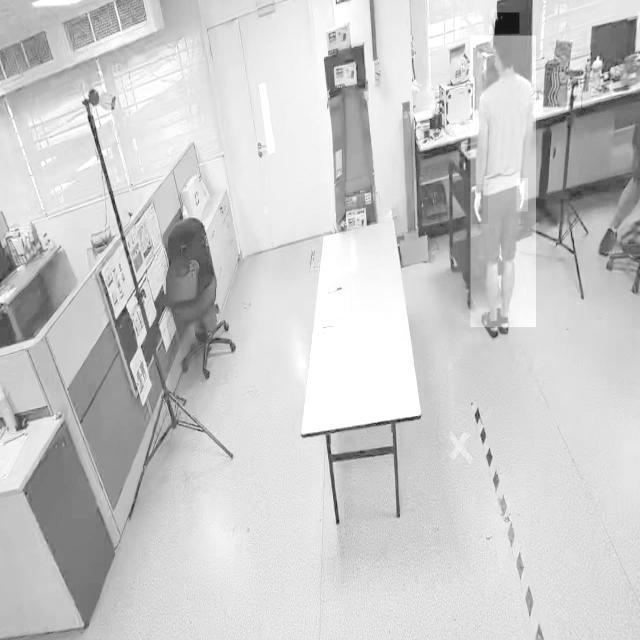hand_glove: (471, 184, 488, 225), (516, 178, 528, 212)
head_nohelmet: (494, 12, 520, 34)
person: (470, 36, 536, 328)
shoes: (478, 307, 500, 340), (493, 306, 511, 336)
